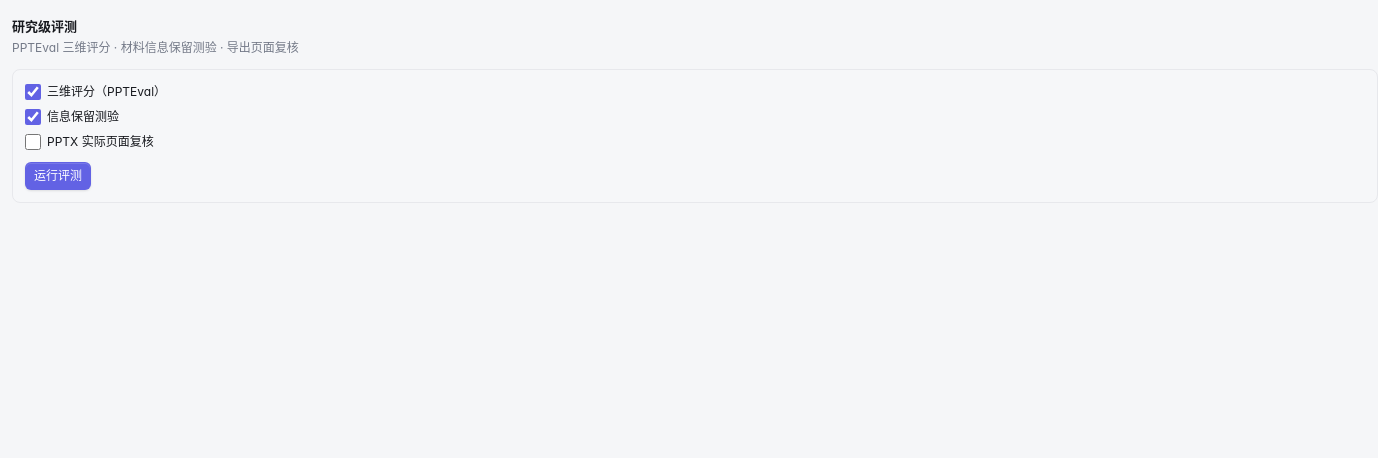
Test case: 运行评测时提交所选类型，并提示缺少 PPTX 导出
This screenshot has width=1378, height=458.
Click the checkbox labelled "三维评分（PPTEval）".
click(33, 92)  # box [25,84,41,100]
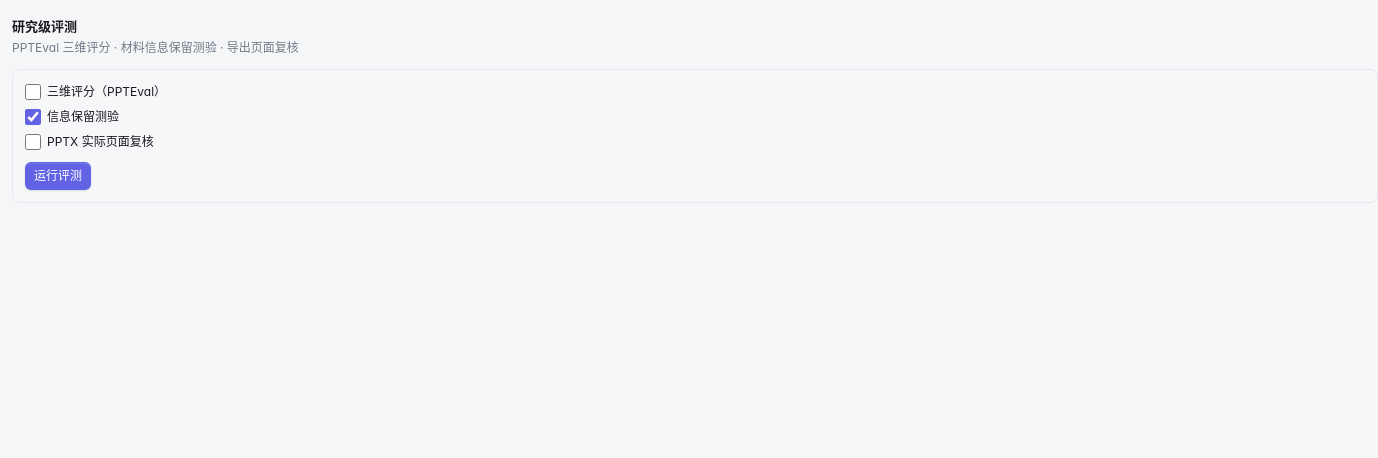
Click the checkbox labelled "PPTX 实际页面复核".
click(33, 142)  # box [25,134,41,150]
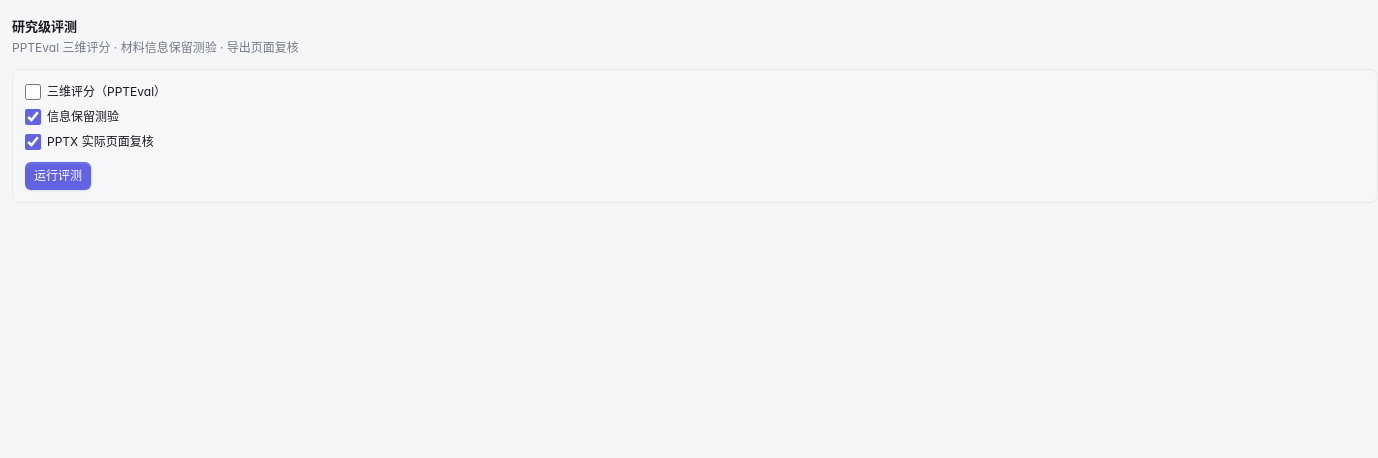
Click the button "运行评测".
click(58, 176)  # box [25,162,91,190]
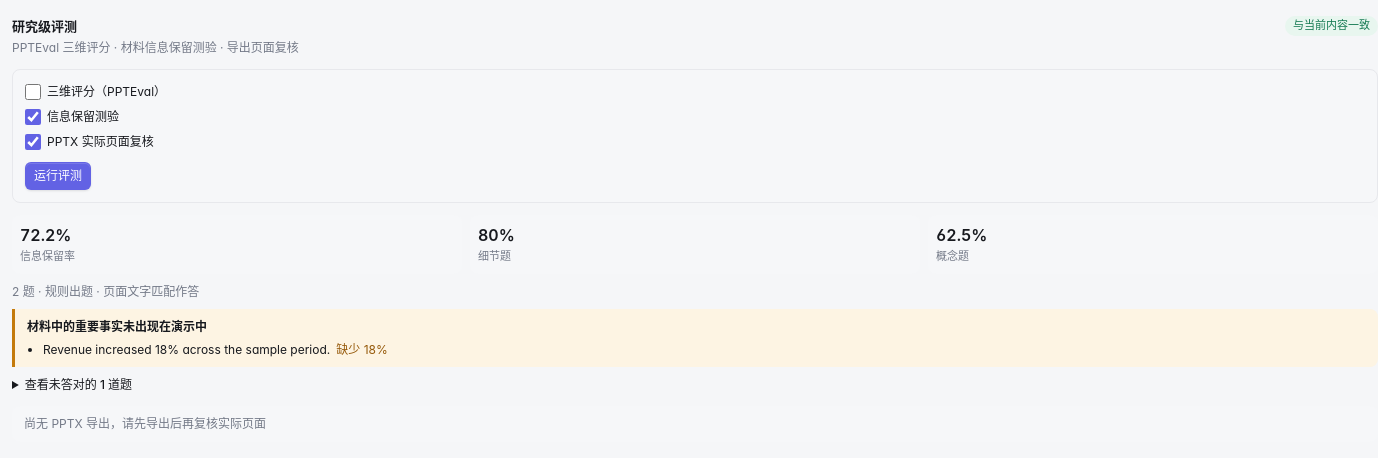
Result: the text "与当前内容一致" is shown at [1285,16,1377,36]
Result: the text "尚无 PPTX 导出，请先导出后再复核实际页面" is shown at [12,406,1377,442]
